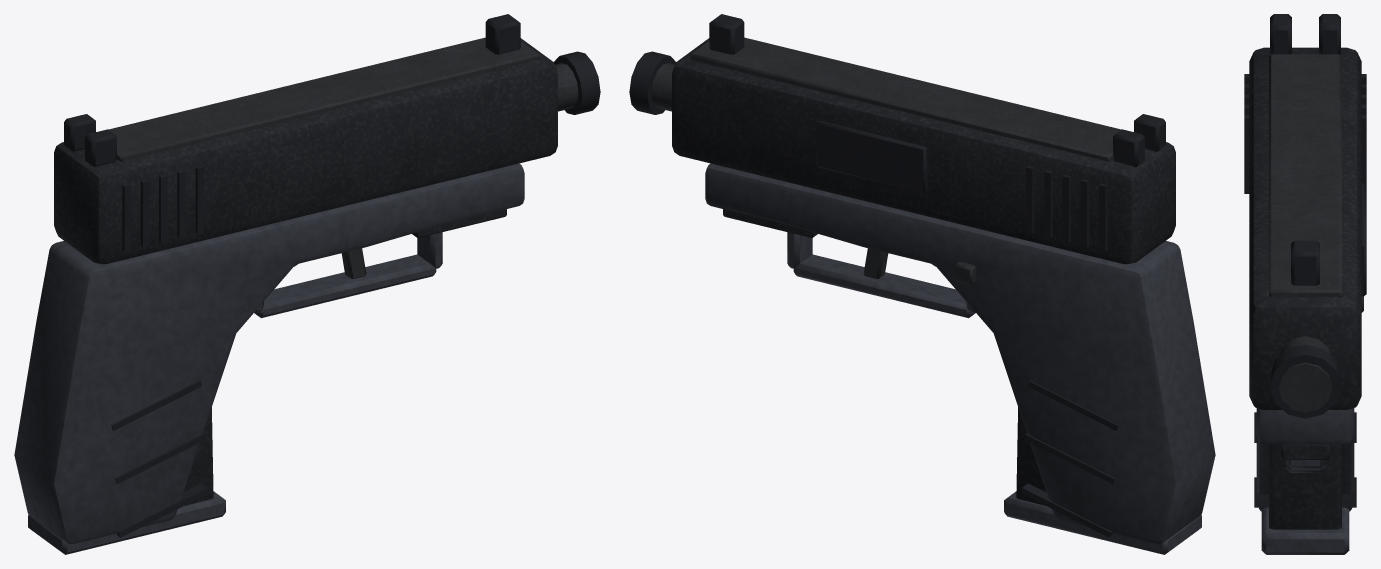
Rendered from pistol_r1.fbx.
3 views of the same model, side by side, from view 1: azimuth 30°, elevation 25°; view 2: azimuth 150°, elevation 25°; view 3: azimuth 270°, elevation 25° (orthographic). The views are drawn at different scales.
Visible parts, largest first — view 1: Body, Slide, Magazine; view 2: Body, Slide, Magazine; view 3: Slide, Body, Magazine.
Part boxes in pixels (x1,y1,x2,y2): Body: (14, 51, 600, 543); Slide: (54, 14, 557, 264); Magazine: (28, 407, 225, 554); Body: (629, 51, 1215, 543); Slide: (672, 14, 1175, 264); Magazine: (1004, 407, 1201, 554); Slide: (1244, 14, 1366, 409); Body: (1254, 296, 1363, 511); Magazine: (1261, 444, 1349, 554).
Bounding box in the file's own units: 3.04 × 2.16 × 0.5.
Materials: 1 (1 with a texture image).
